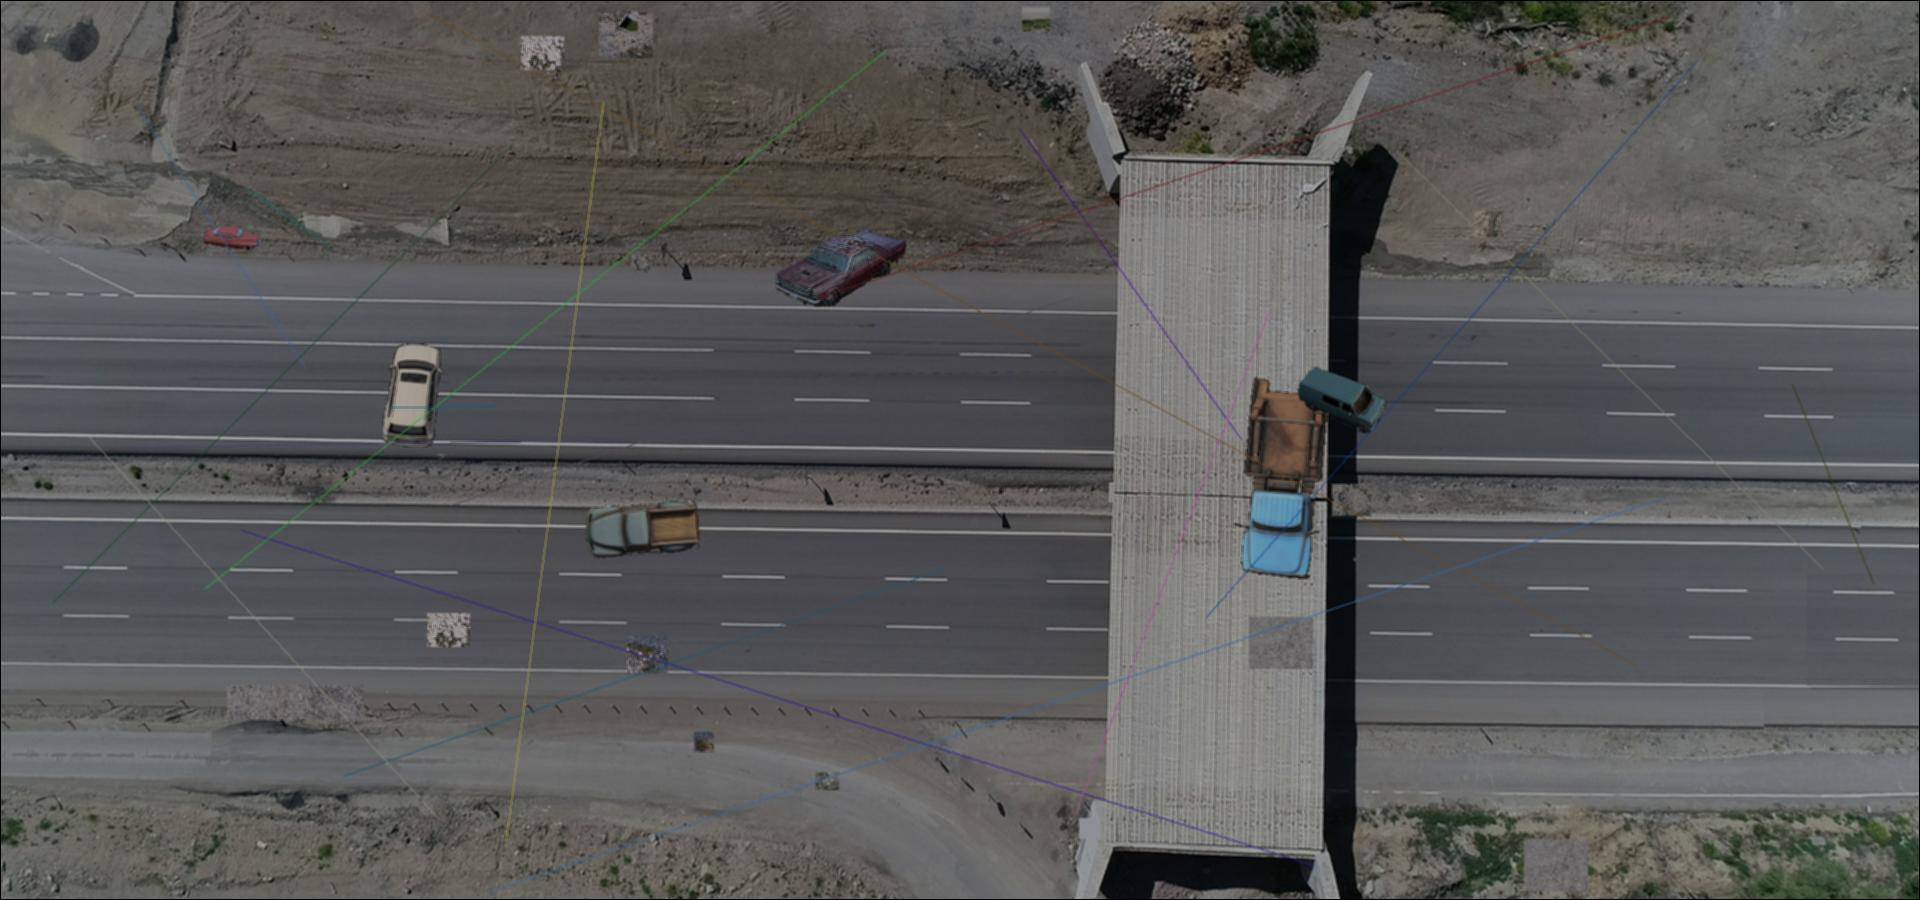arac: (1234, 373, 1333, 582), (776, 227, 907, 309), (584, 495, 702, 558), (378, 340, 444, 448), (1297, 365, 1386, 433), (200, 224, 261, 252)
